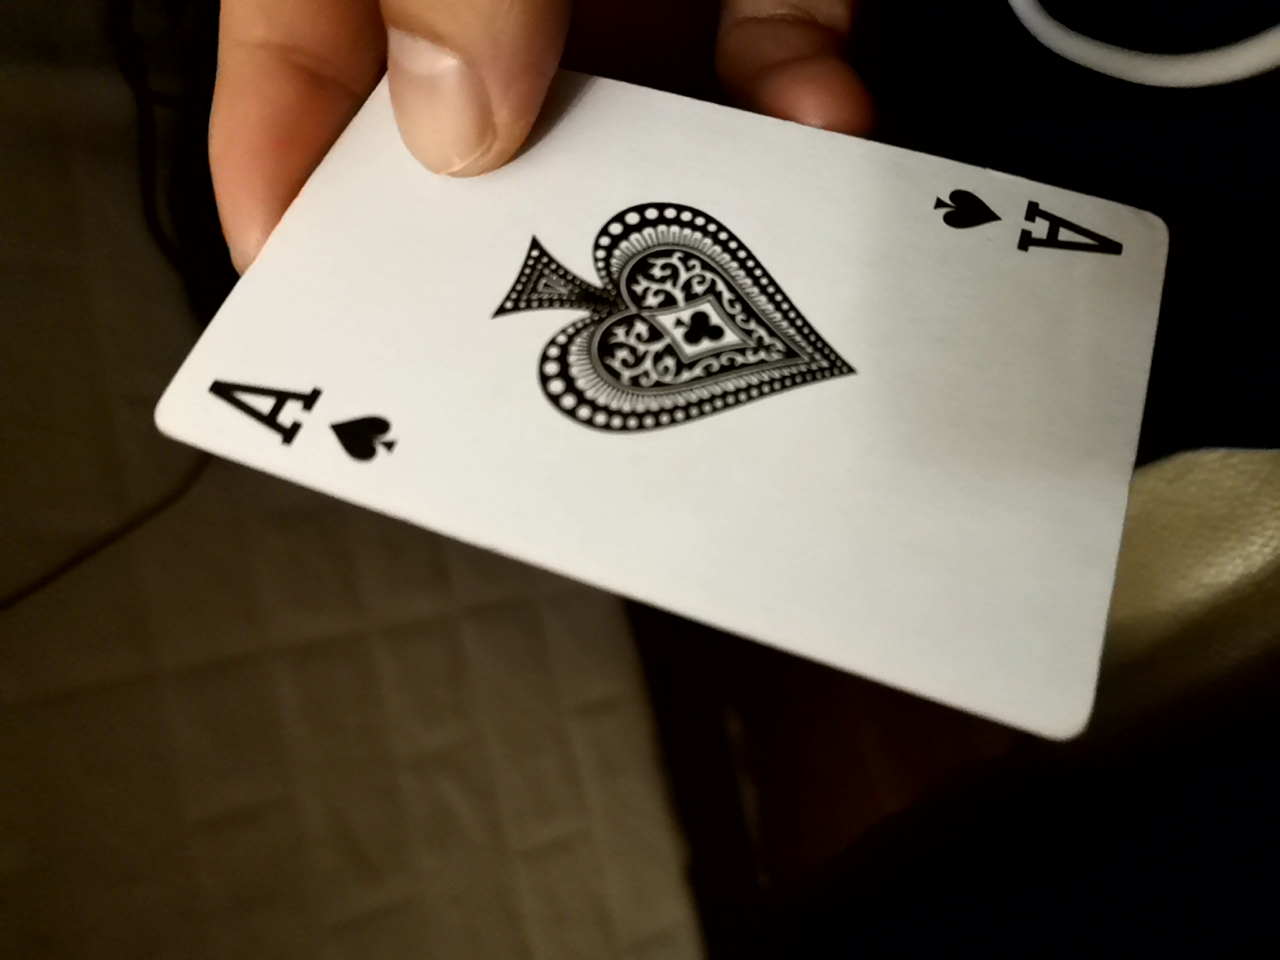ht a: (127, 83, 1205, 784)
